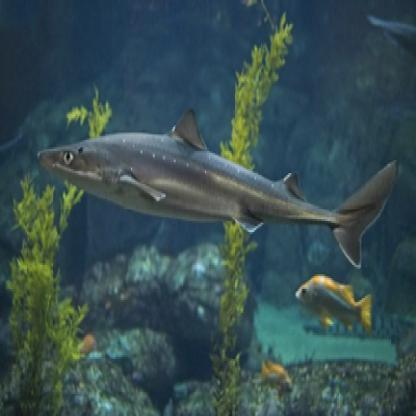shark: (36, 101, 401, 276)
